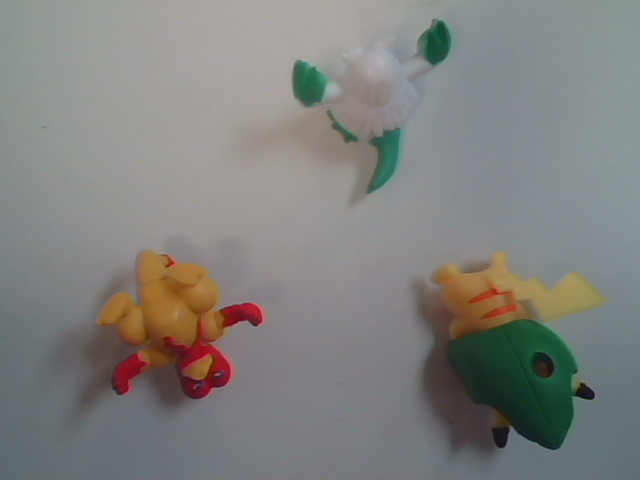abomasnow: (277, 11, 473, 216)
magmar: (69, 238, 298, 442)
pikachu: (391, 241, 620, 471)
